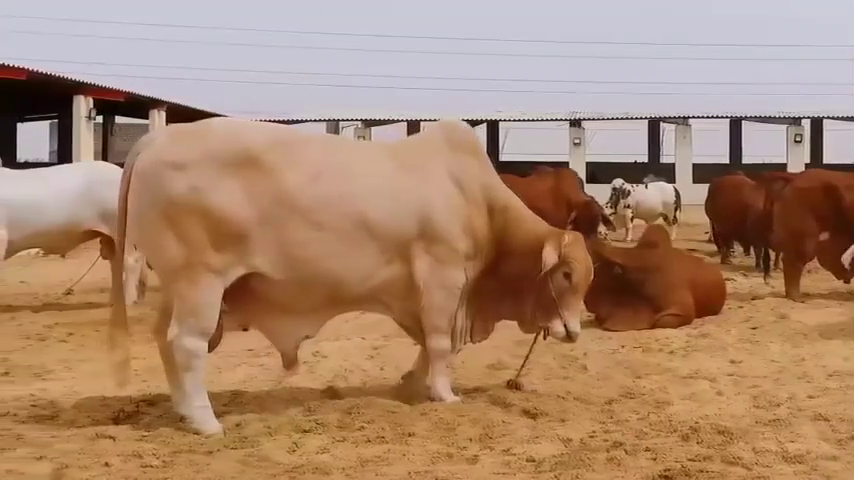bo: (102, 112, 596, 443), (5, 158, 150, 313), (583, 219, 732, 337), (747, 160, 854, 308), (485, 153, 610, 244), (602, 166, 690, 248), (702, 167, 768, 276)
